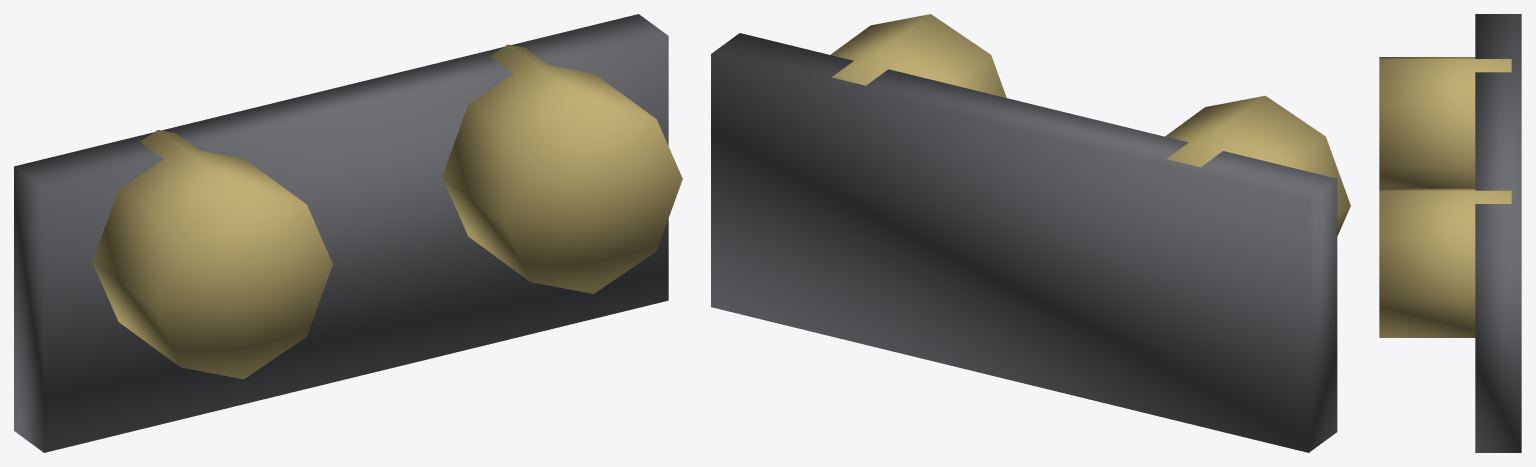
Rendered from emergency_light_pair_11.glb.
The picture shows the model from 3 angles, left to right: view 1: azimuth 30°, elevation 25°; view 2: azimuth 150°, elevation 25°; view 3: azimuth 270°, elevation 25°; orthographic projection. The views are drawn at different scales.
Visible parts, largest first — view 1: world; view 2: world; view 3: world.
Boxes of the visible parts, bbox=[...] form: world: bbox=[14, 14, 682, 452]; world: bbox=[711, 14, 1350, 452]; world: bbox=[1379, 14, 1521, 452].
Size of the model in its own units: 0.42 by 0.175 by 0.1075.
